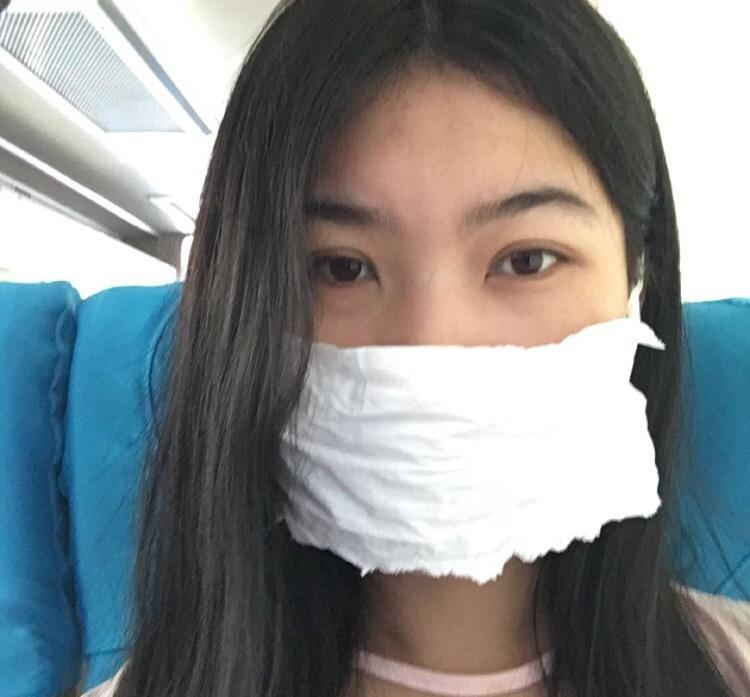OK: (233, 162, 644, 573)
